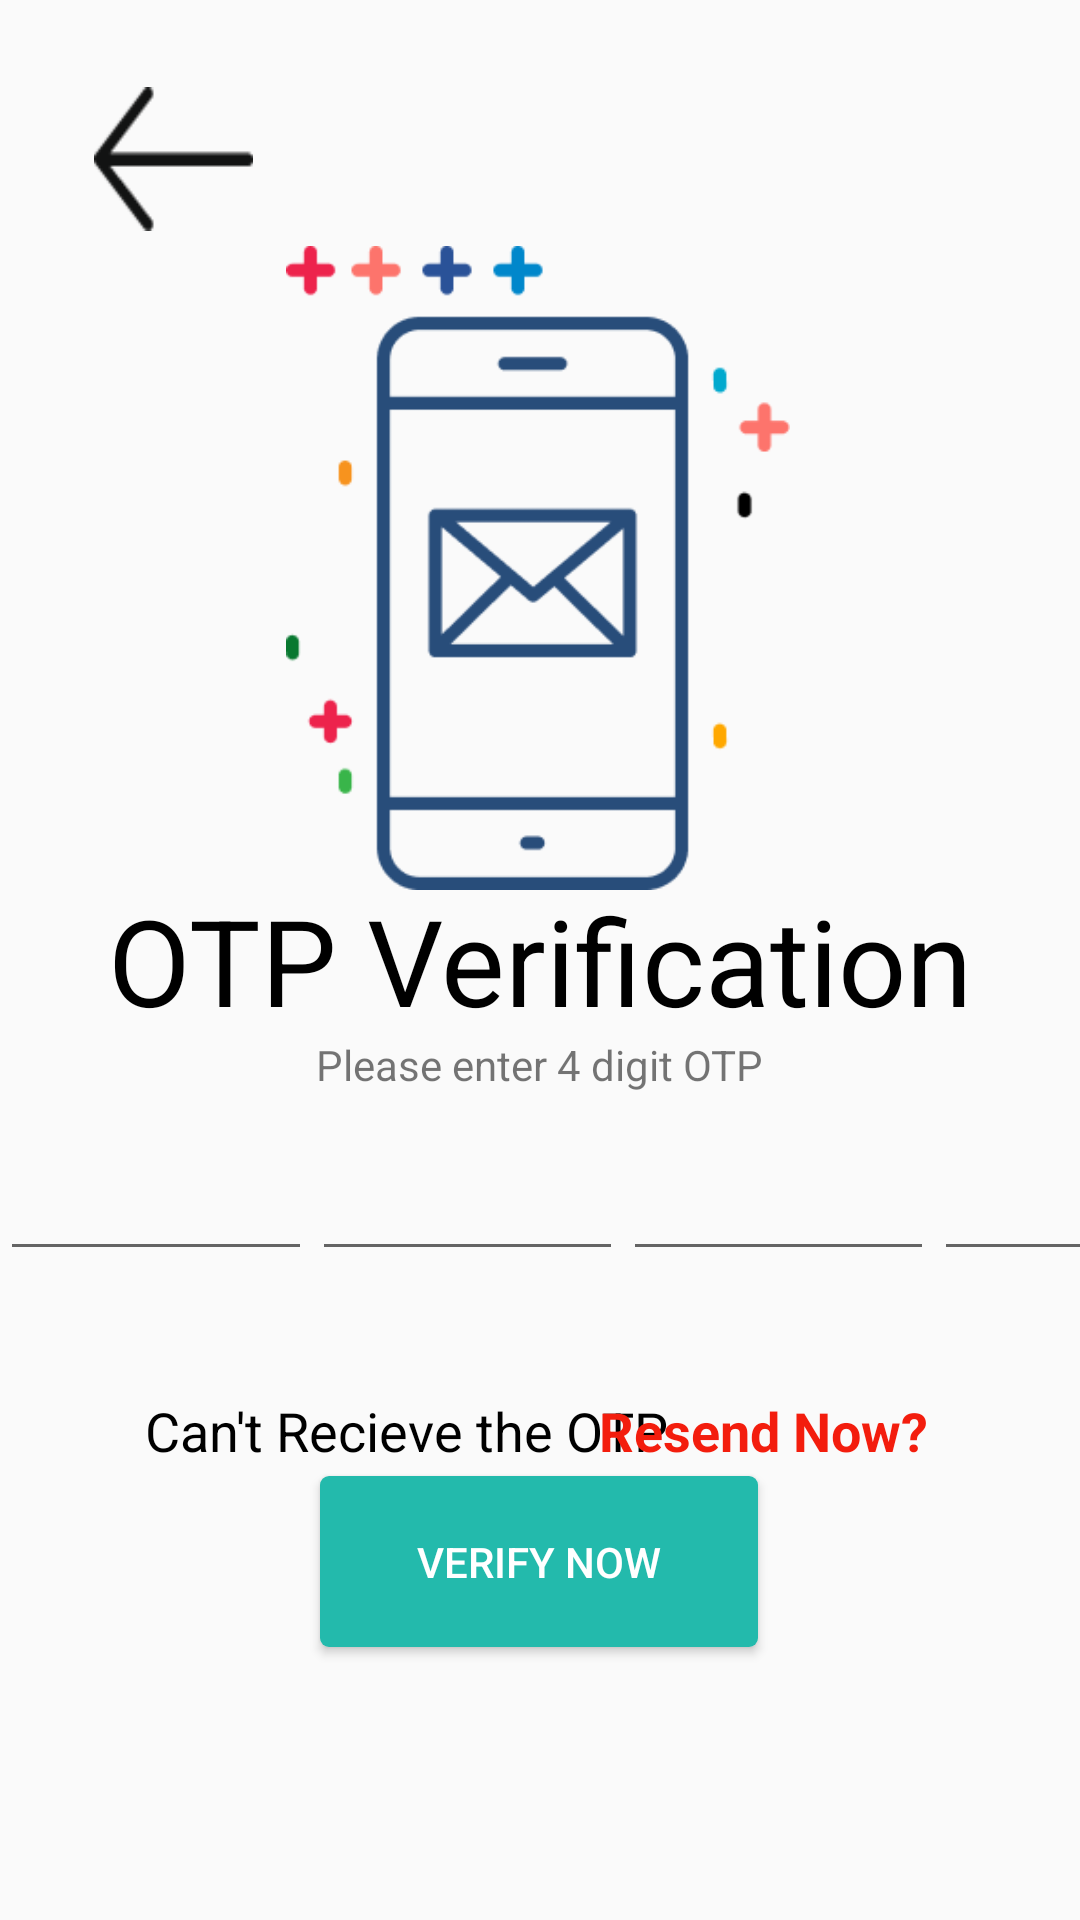

Named icons in this screenshot (1080 × 1920) and their centers, point (x, y):
arrowback: point (173, 159)
